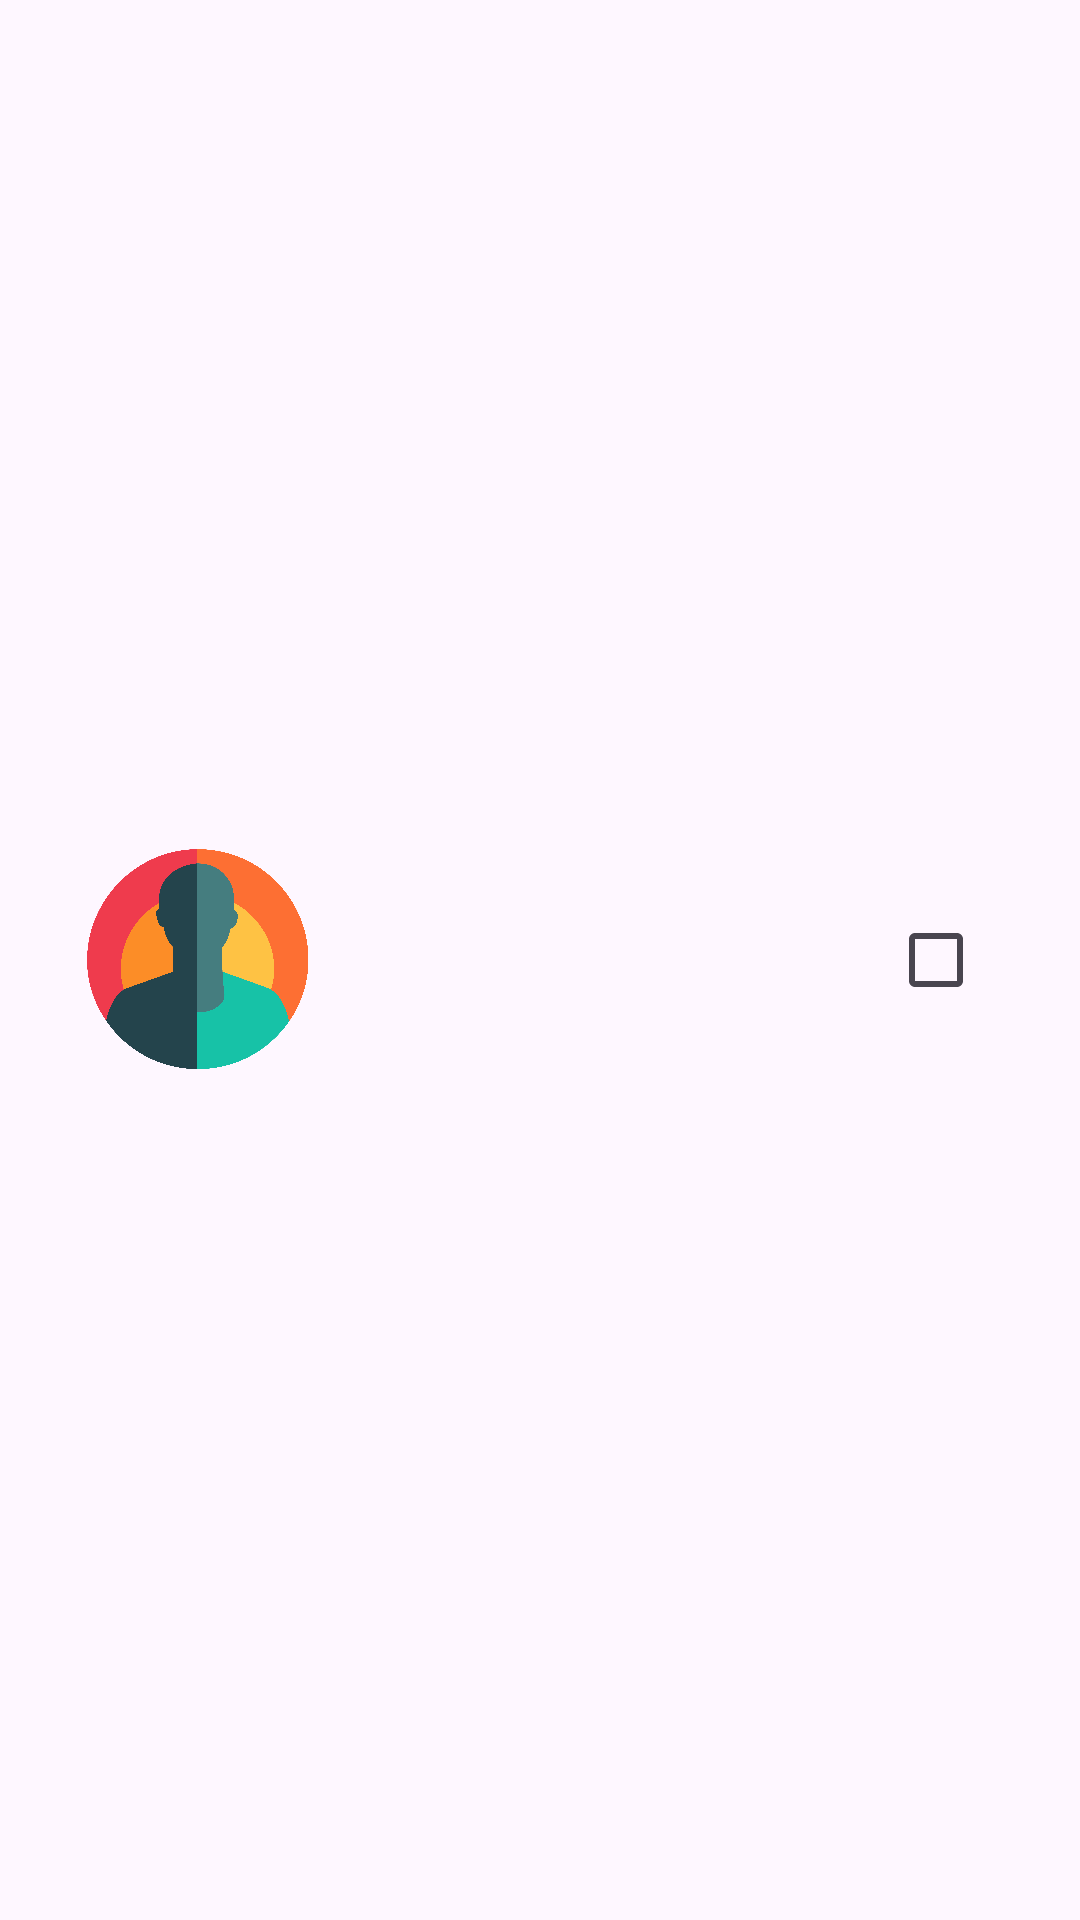

Where icons sit on this 1080px x 1920px app screen, as (x1, y1, x2, y2):
profile: (87, 849, 308, 1069)
